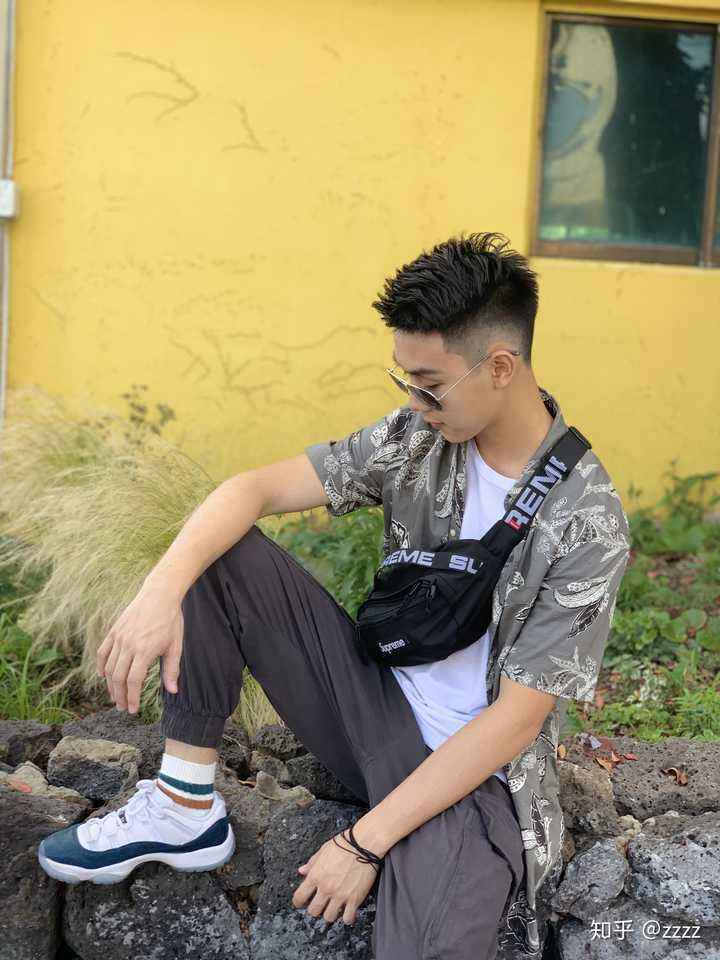person: (143, 182, 585, 960)
